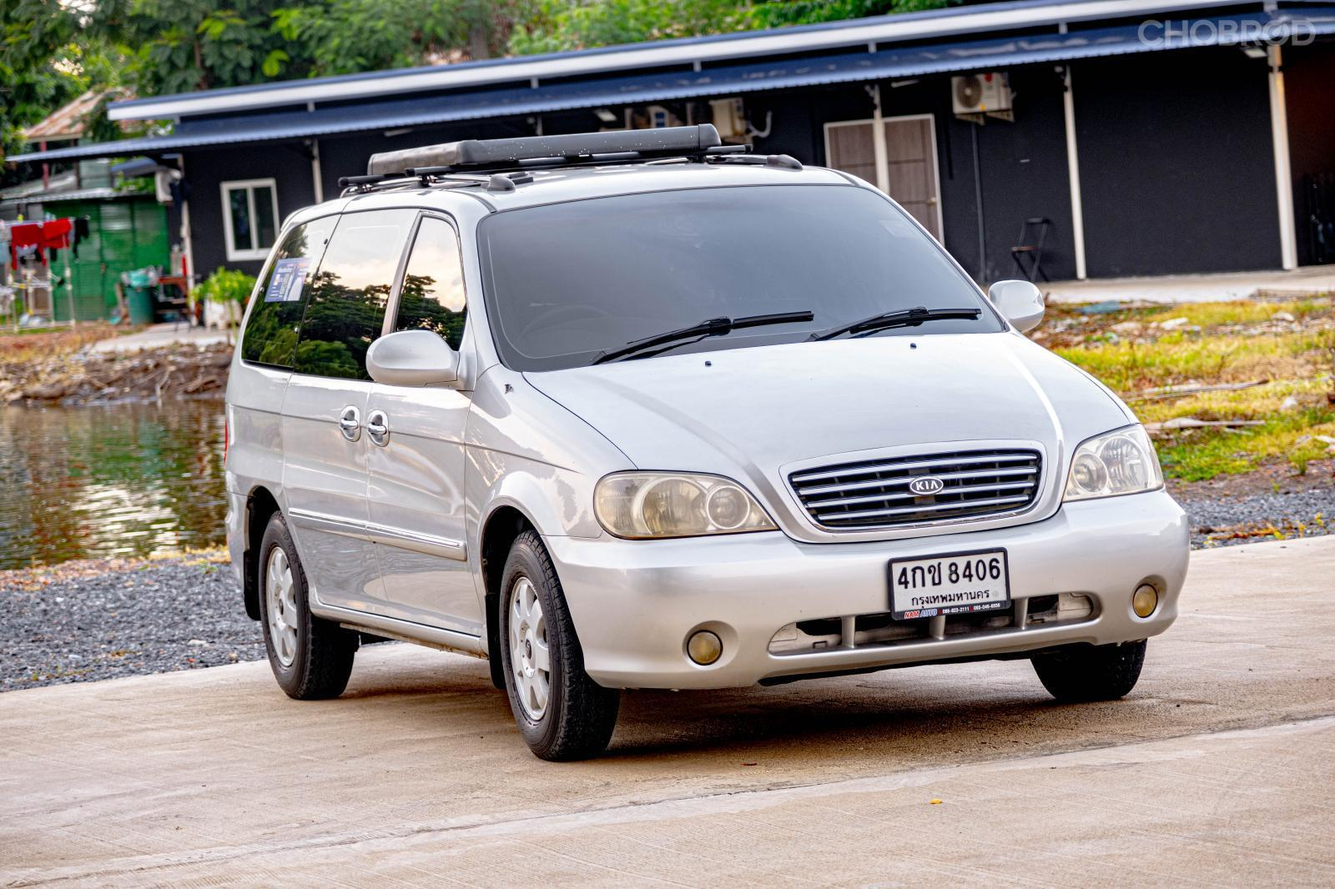license-plate: (884, 546, 1014, 623)
